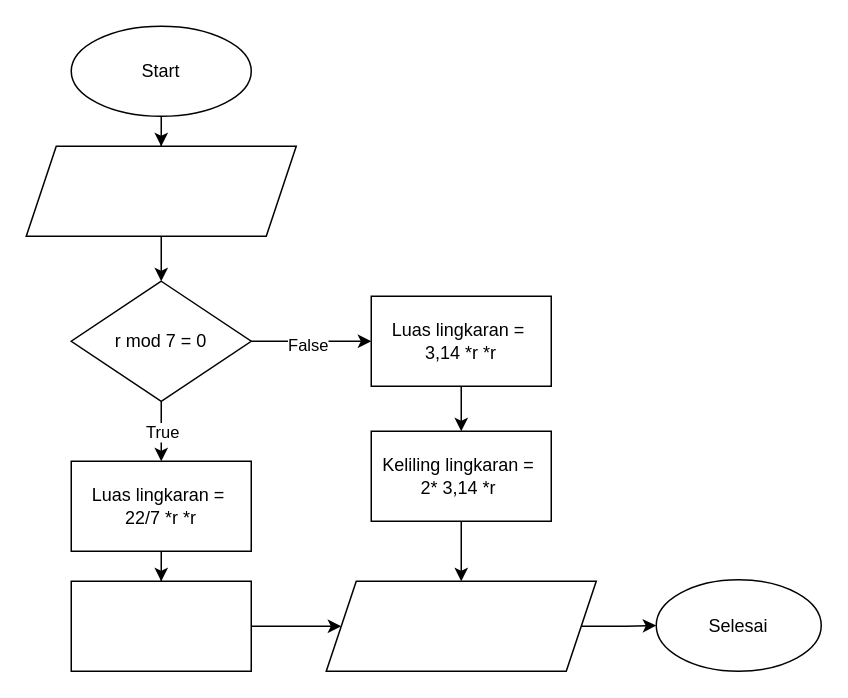
The diagram is 848 pixels wide and 698 high, and some of its shapes have lost their labels. The box of each missing label's shape, as (x1, y1, x2, y2) in pixels:
INPUT jari-jari lingkaran (r): (25, 145, 296, 236)
Keliling lingkaran = 2* 22/7 *r: (70, 580, 251, 671)
OUTPUT Luas Lingkaran Keliling Lingkaran: (325, 580, 596, 671)
